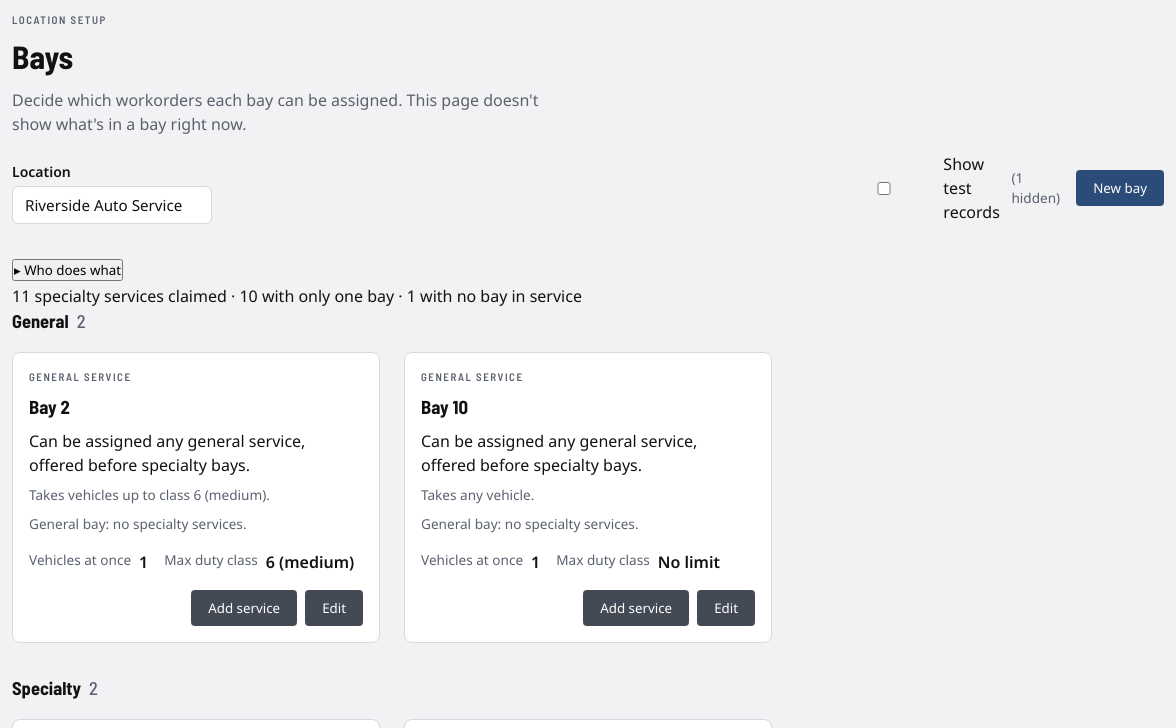
Test: BaysPageComponent › specialty services from the cards › lists who does what, and flags single and out-of-service claims
Click the button with class "band-toggle" at coordinates (68, 270), box [12,259,123,281]
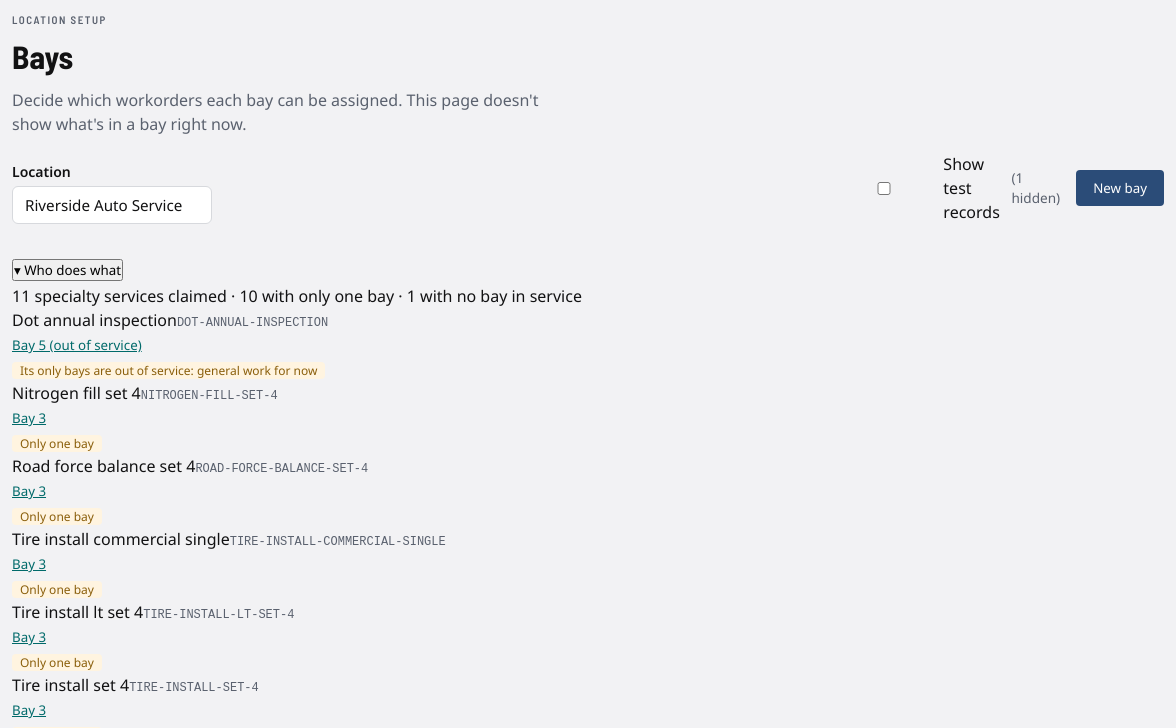
expect the text "Bay 5 (out of service)" is shown: met, box [12,333,142,357]
